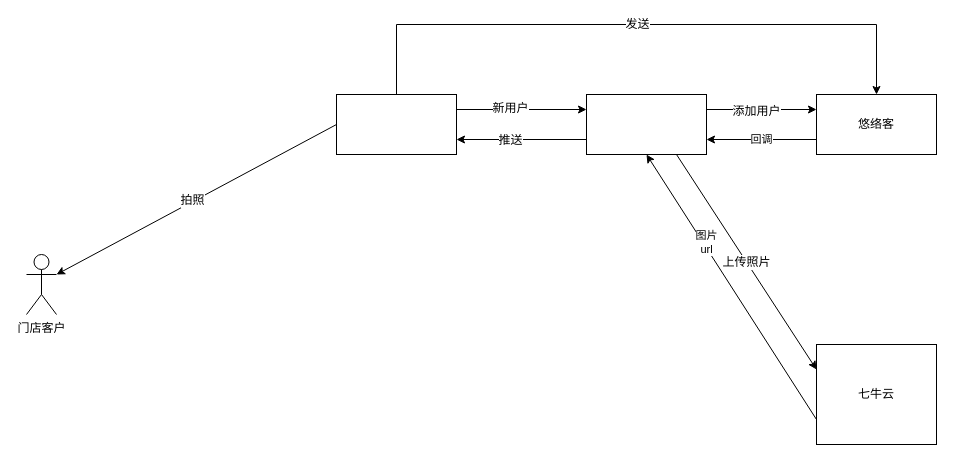
This 954x462 diagram has some shape labels left out. Here are the shapes that lost their labels. From the top down, the centre of each, then its label:
At point (396, 124): "酒店".
At point (646, 124): "鼎壹".
